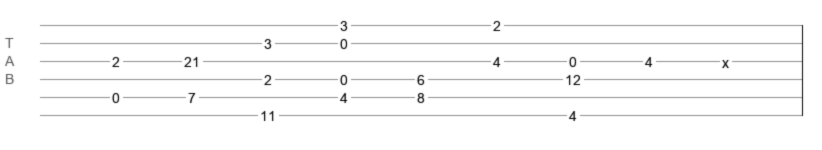0: (112, 90, 120, 100), (340, 36, 348, 46), (340, 72, 348, 82), (569, 54, 577, 64)
11: (260, 108, 276, 118)
12: (565, 72, 581, 82)
2: (112, 54, 120, 64), (264, 72, 272, 82), (493, 18, 501, 28)
21: (184, 54, 200, 64)
3: (264, 36, 272, 46), (340, 18, 348, 28)
4: (340, 90, 348, 100), (493, 54, 501, 64), (569, 108, 577, 118), (645, 54, 653, 64)
6: (417, 72, 425, 82)
7: (188, 90, 196, 100)
8: (417, 90, 425, 100)
x: (722, 55, 729, 63)
